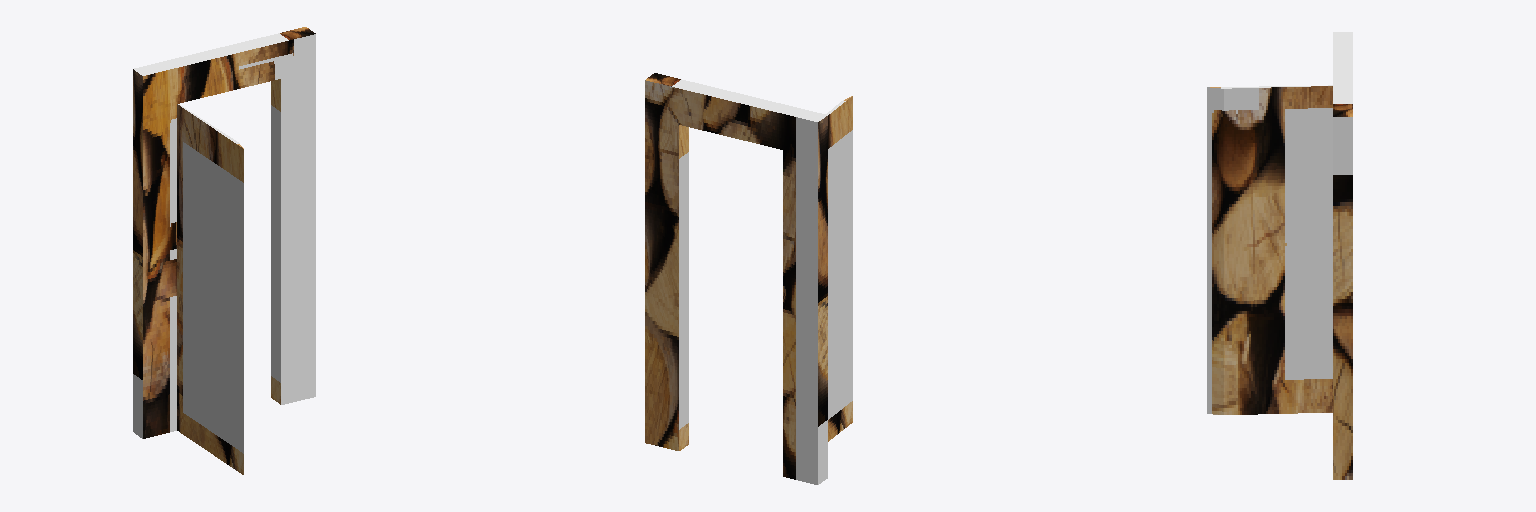
The picture shows the model from 3 angles: view 1: azimuth 30°, elevation 25°; view 2: azimuth 150°, elevation 25°; view 3: azimuth 270°, elevation 25°; orthographic projection.
Parts seen in each view (by area): view 1: pCube1; view 2: pCube1; view 3: pCube1.
Boxes of the visible parts, box(x1,y1,x2,y2) form: pCube1: box(133, 27, 315, 474); pCube1: box(645, 73, 852, 484); pCube1: box(1207, 32, 1352, 479).
Size of the model in its own units: 1 by 2 by 0.7303.
Materials: 1 (1 with a texture image).